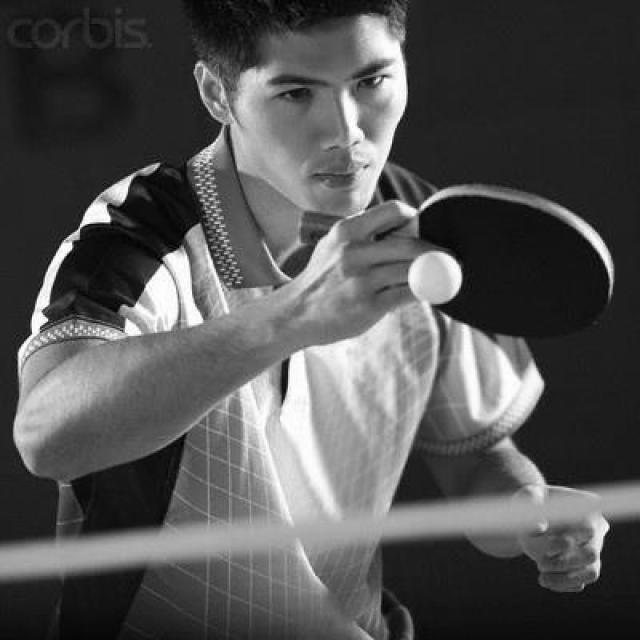ping-pong-ball: (407, 249, 464, 305)
